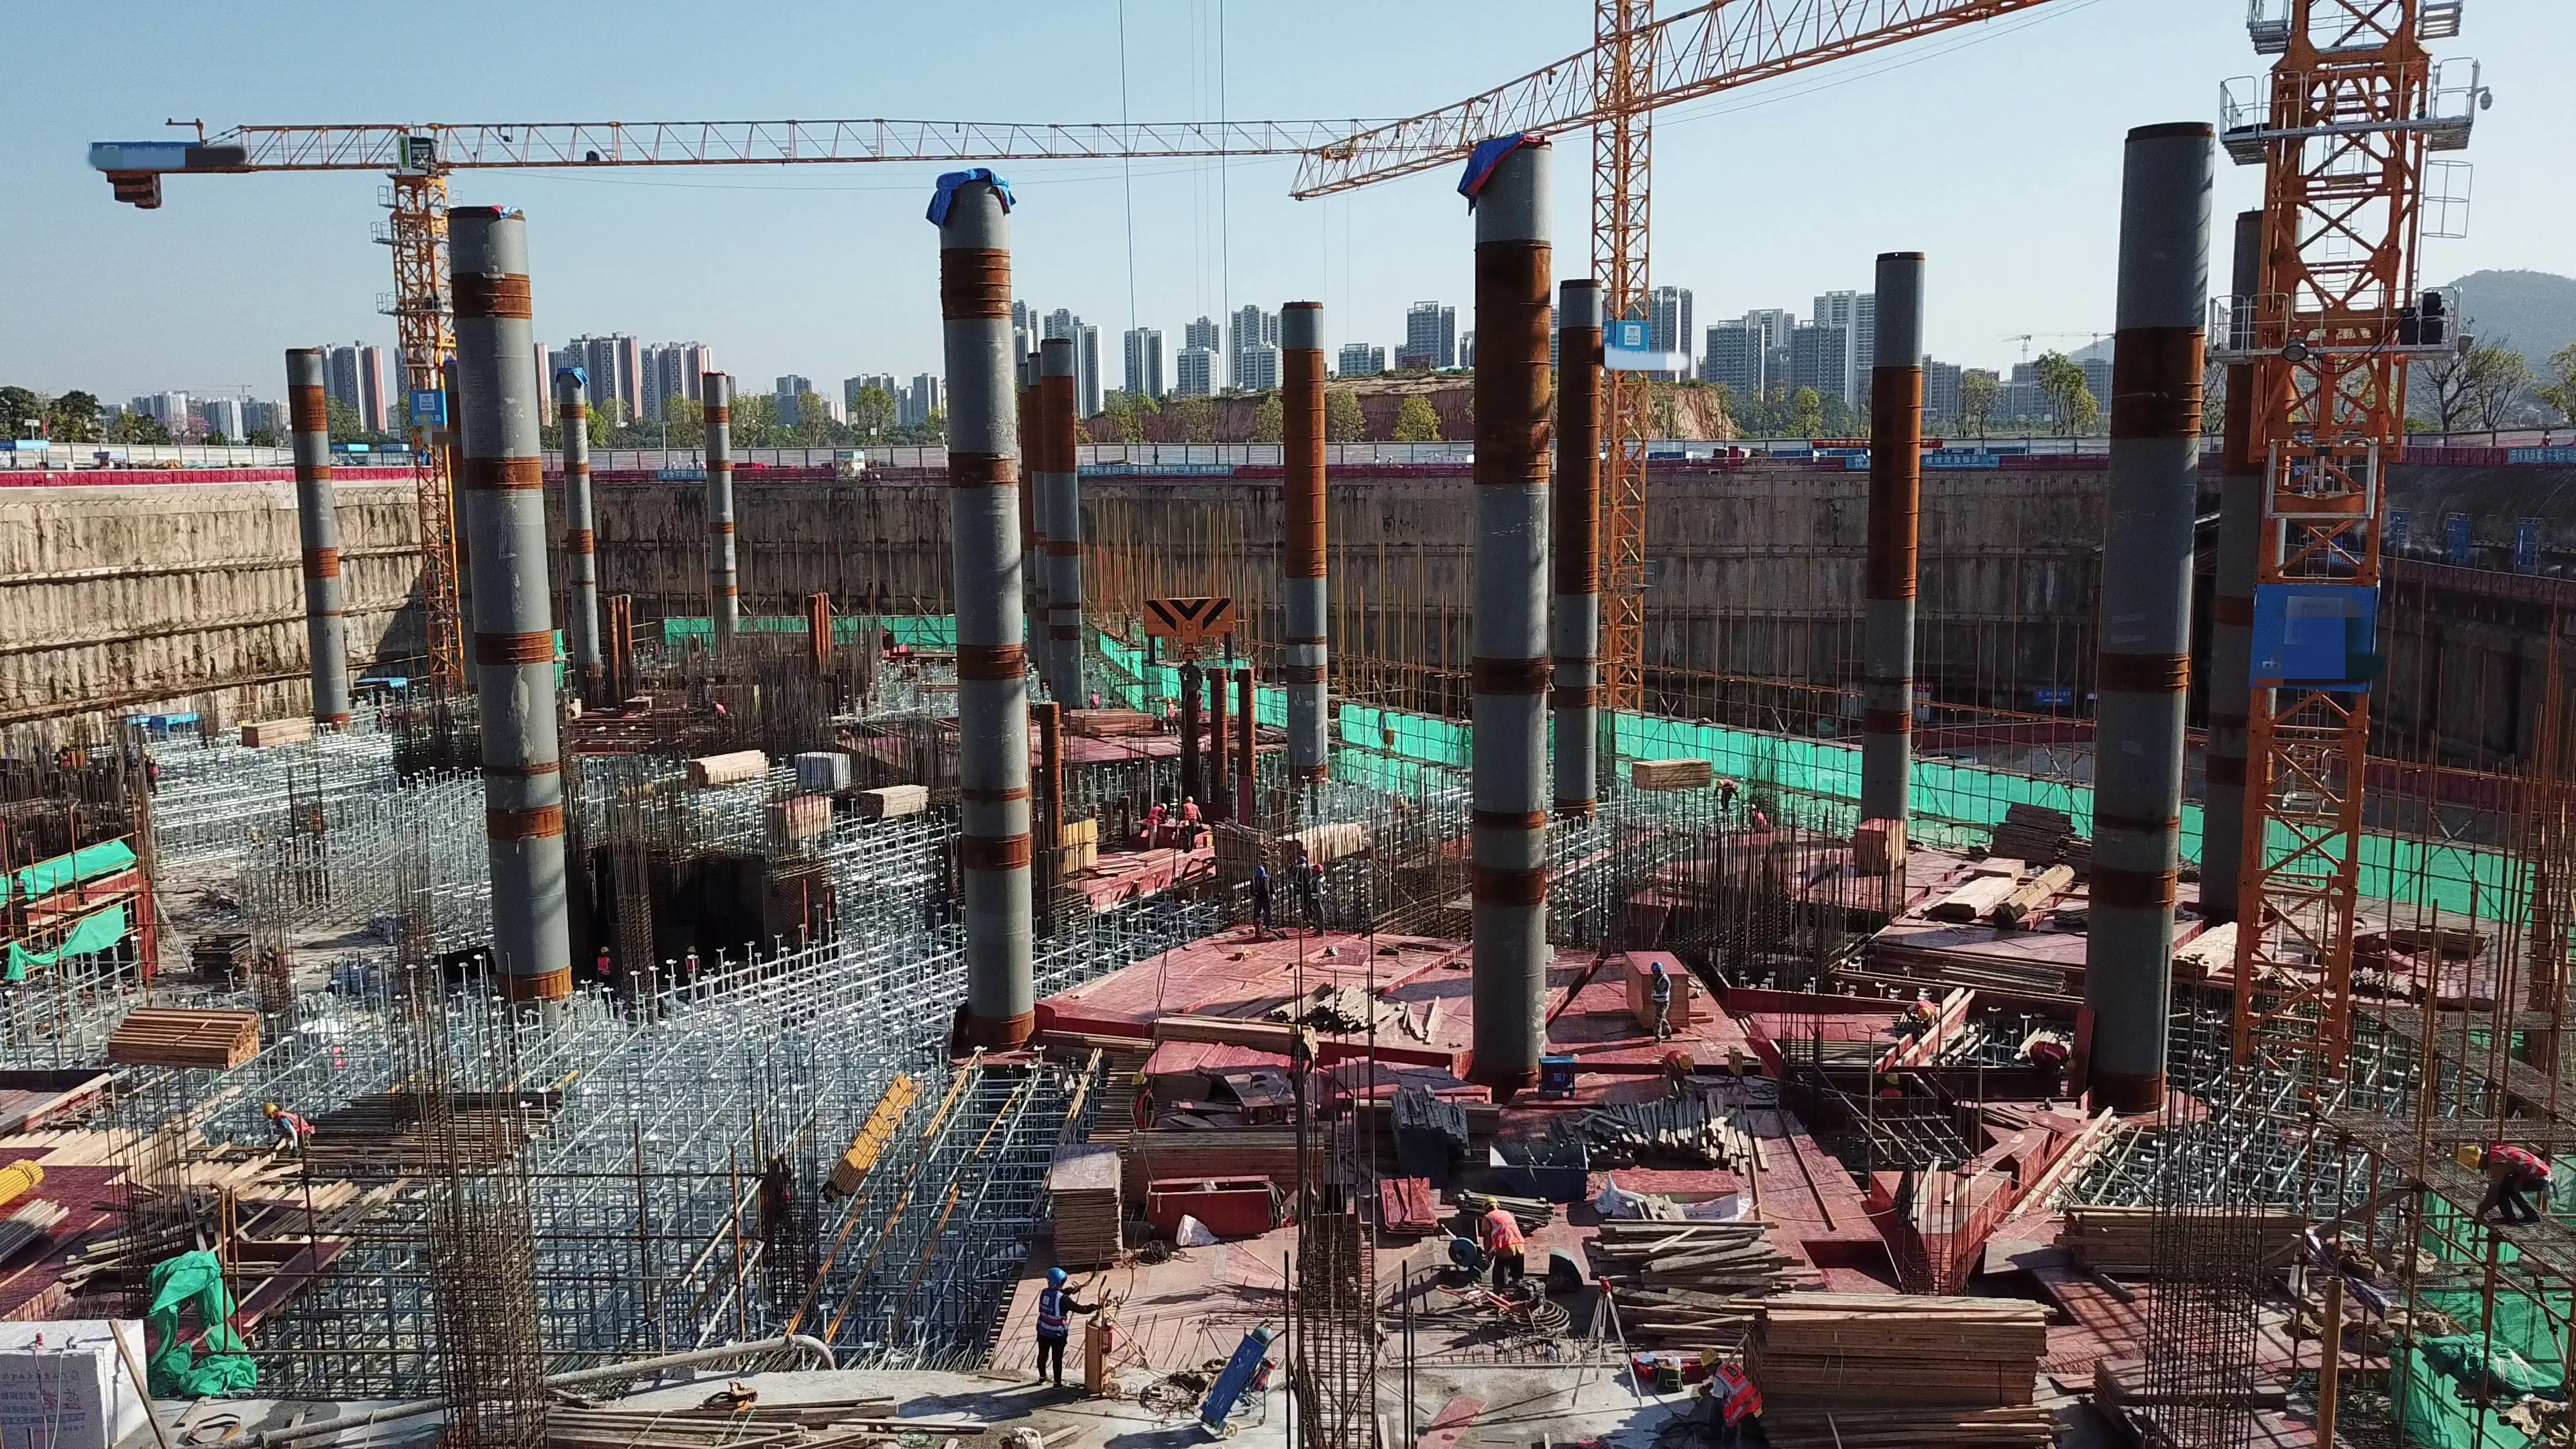board: (1146, 1034, 1309, 1099), (1851, 805, 1913, 887), (782, 797, 849, 844)
cutter: (1226, 1068, 1295, 1123)
helmet: (2459, 1146, 2481, 1173), (1042, 1267, 1069, 1289), (1884, 1071, 1905, 1087), (1698, 1349, 1719, 1366), (1646, 958, 1664, 972), (1676, 1053, 1693, 1067), (1484, 1193, 1503, 1205), (264, 1102, 276, 1114), (1919, 1008, 1932, 1019), (2065, 1059, 2076, 1073), (1254, 863, 1265, 877), (1182, 791, 1196, 801), (1312, 861, 1324, 872), (685, 944, 698, 953), (599, 945, 610, 955), (1293, 856, 1306, 864), (1157, 801, 1167, 809), (1167, 697, 1173, 704), (1091, 688, 1097, 694)
hopper: (1480, 1134, 1597, 1203)
person: (2444, 1131, 2566, 1253), (1478, 1167, 1534, 1328), (1027, 1248, 1083, 1391), (1698, 1343, 1778, 1440), (2012, 1035, 2086, 1110), (1635, 953, 1680, 1051), (260, 1096, 321, 1159), (1252, 855, 1287, 938), (1892, 993, 1945, 1042), (1311, 859, 1340, 934), (585, 941, 621, 988), (1142, 798, 1175, 851), (1287, 851, 1311, 916), (676, 943, 710, 985), (1180, 790, 1203, 847), (1163, 694, 1179, 736), (710, 700, 728, 720), (1087, 685, 1101, 710)
slogan: (2387, 508, 2551, 574), (1848, 451, 2002, 470), (2508, 447, 2576, 463)
vest: (1714, 1366, 1762, 1426), (2485, 1146, 2549, 1182), (1035, 1293, 1069, 1343), (1487, 1209, 1524, 1250), (276, 1112, 317, 1140), (2037, 1040, 2065, 1065), (1652, 982, 1671, 1008), (1310, 875, 1328, 904), (1254, 875, 1272, 900), (1183, 805, 1199, 821), (1147, 807, 1159, 826), (1293, 871, 1305, 890), (1919, 998, 1939, 1009), (1166, 704, 1176, 718), (1091, 695, 1099, 706)
wood: (1598, 1208, 2049, 1355), (117, 1004, 262, 1073), (1962, 862, 2071, 931), (1625, 750, 1713, 800), (237, 708, 304, 763), (861, 784, 938, 829), (1297, 819, 1368, 859), (692, 746, 764, 783)
